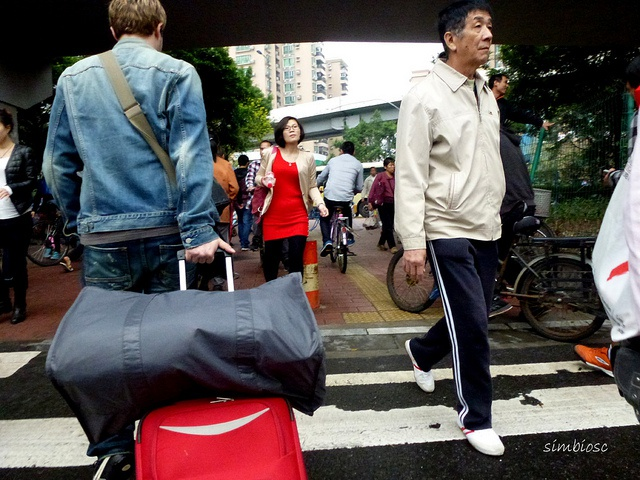non-vehicle: (390, 214, 603, 339), (25, 210, 70, 265), (330, 205, 360, 273)
